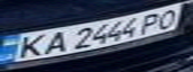2: (69, 25, 93, 51)
4: (118, 15, 145, 39), (90, 21, 112, 46), (106, 18, 127, 43)
A: (36, 29, 72, 56)
K: (9, 33, 54, 61)
O: (151, 6, 187, 30)
P: (136, 10, 169, 35)
